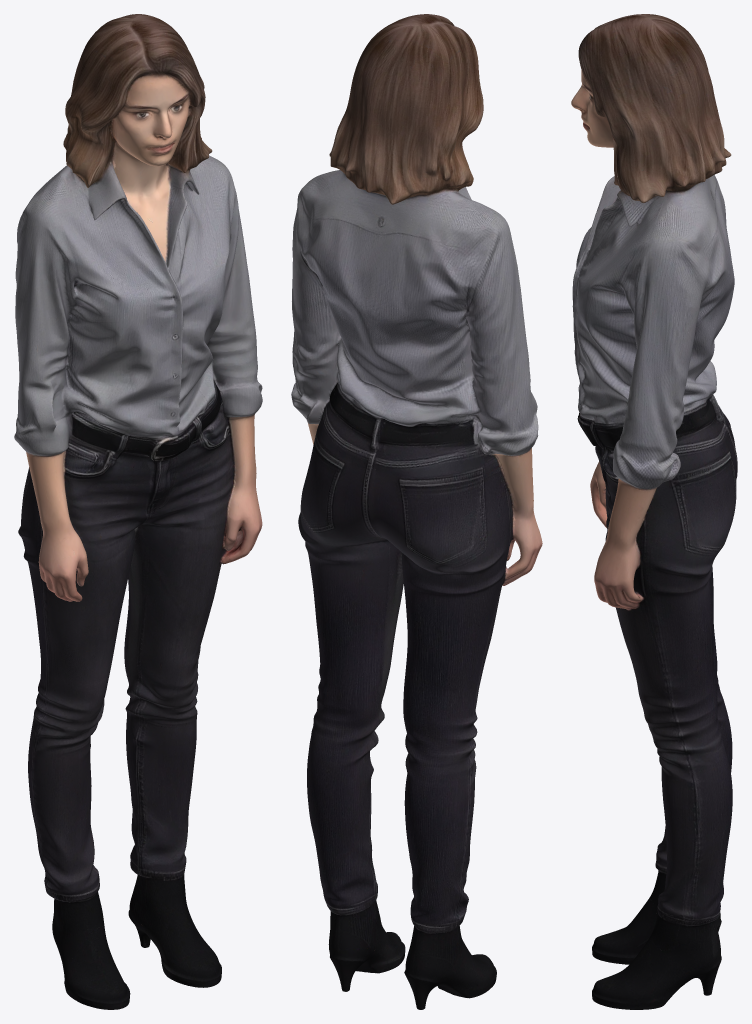
Rendered from casual_grey_shirt_and_dark_denim.glb.
3 views of the same model, side by side, from view 1: azimuth 30°, elevation 25°; view 2: azimuth 150°, elevation 25°; view 3: azimuth 270°, elevation 25° (orthographic).
Parts seen in each view (by area): view 1: Object_5, Object_6; view 2: Object_6, Object_5; view 3: Object_6, Object_5.
Boxes of the visible parts, box(x1,y1,x2,y2) form: Object_5: box(15, 14, 262, 1009); Object_6: box(14, 14, 262, 999); Object_6: box(291, 14, 538, 1009); Object_5: box(293, 14, 542, 1009); Object_6: box(599, 15, 737, 1009); Object_5: box(571, 14, 733, 1009).
Bounding box in the file's own units: 0.5014 × 1.9 × 0.2995.
1 material, 1 textured.
